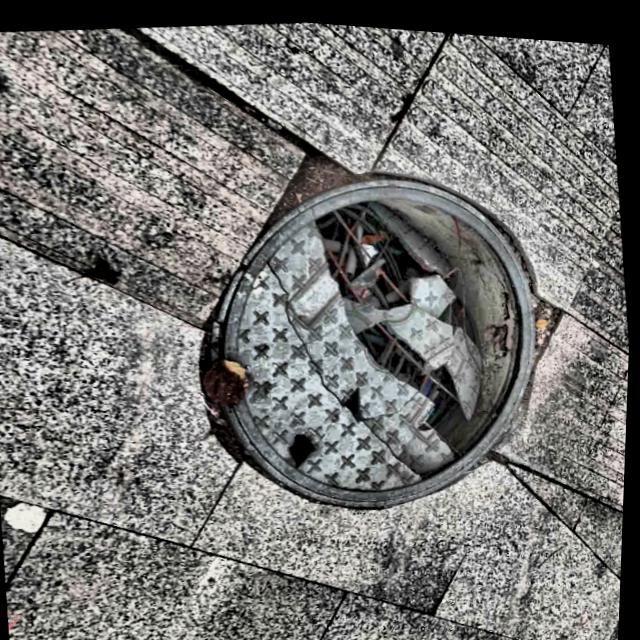Open Manhole: (205, 168, 536, 503)
